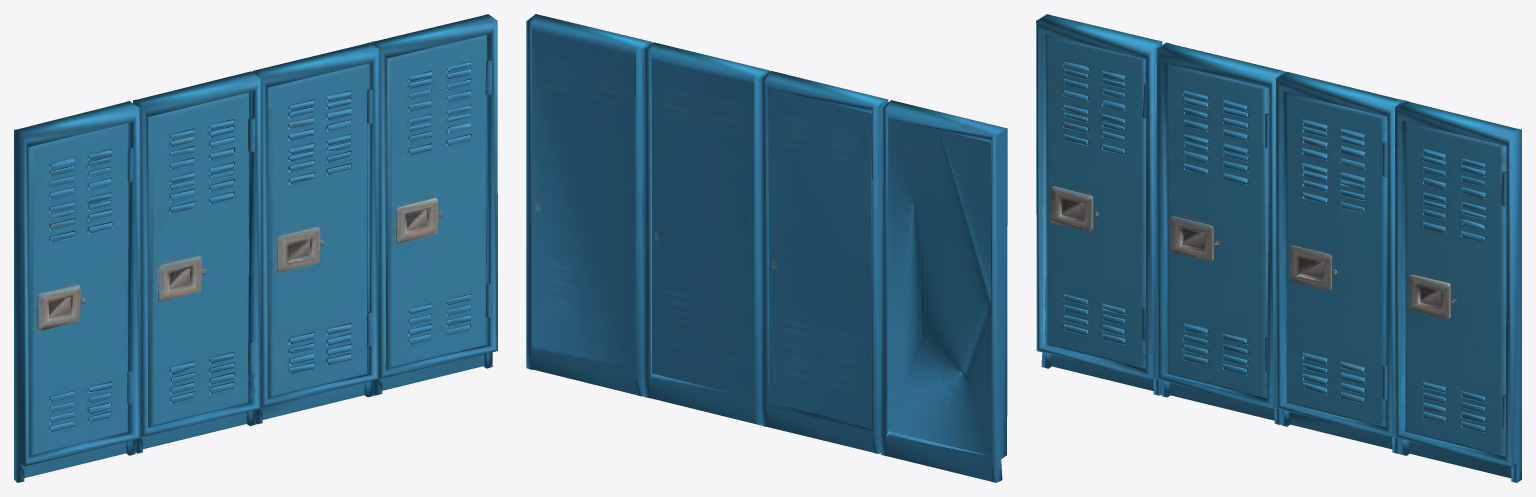
The model's file is lockers.glb.
The picture shows the model from 3 angles, left to right: view 1: azimuth 30°, elevation 25°; view 2: azimuth 150°, elevation 25°; view 3: azimuth 330°, elevation 25°; orthographic projection.
Bounding box in the file's own units: 0.9521 × 0.6719 × 0.0391.
1 material, 1 textured.
